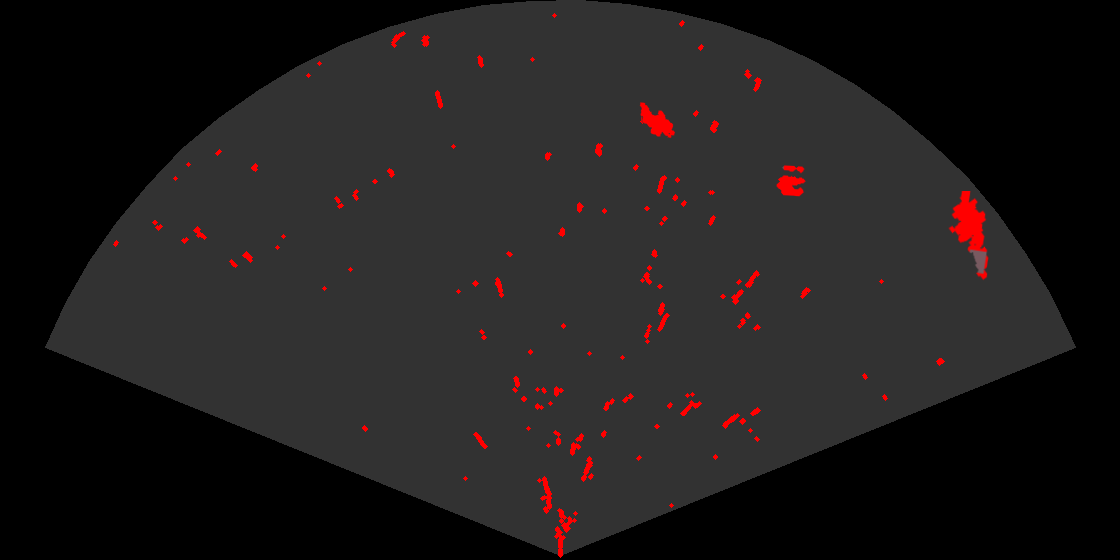AUV: (638, 101, 677, 140)
ball: (775, 164, 807, 198)
frogman: (947, 191, 990, 281)
